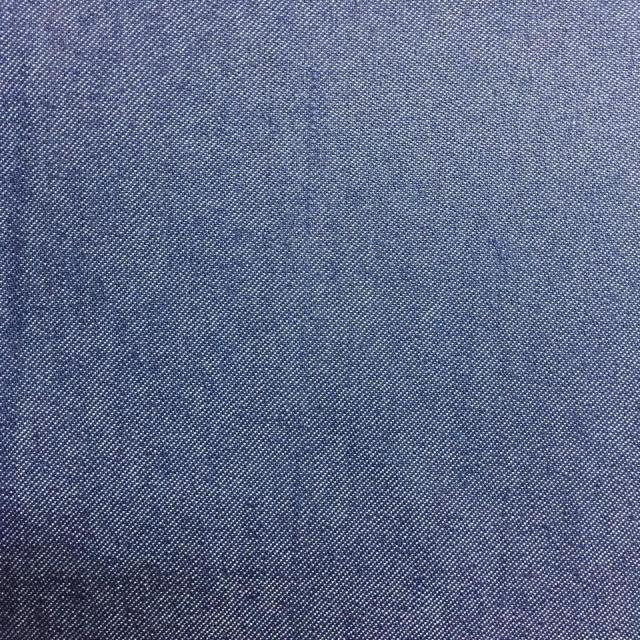Line: (285, 64, 319, 578)
